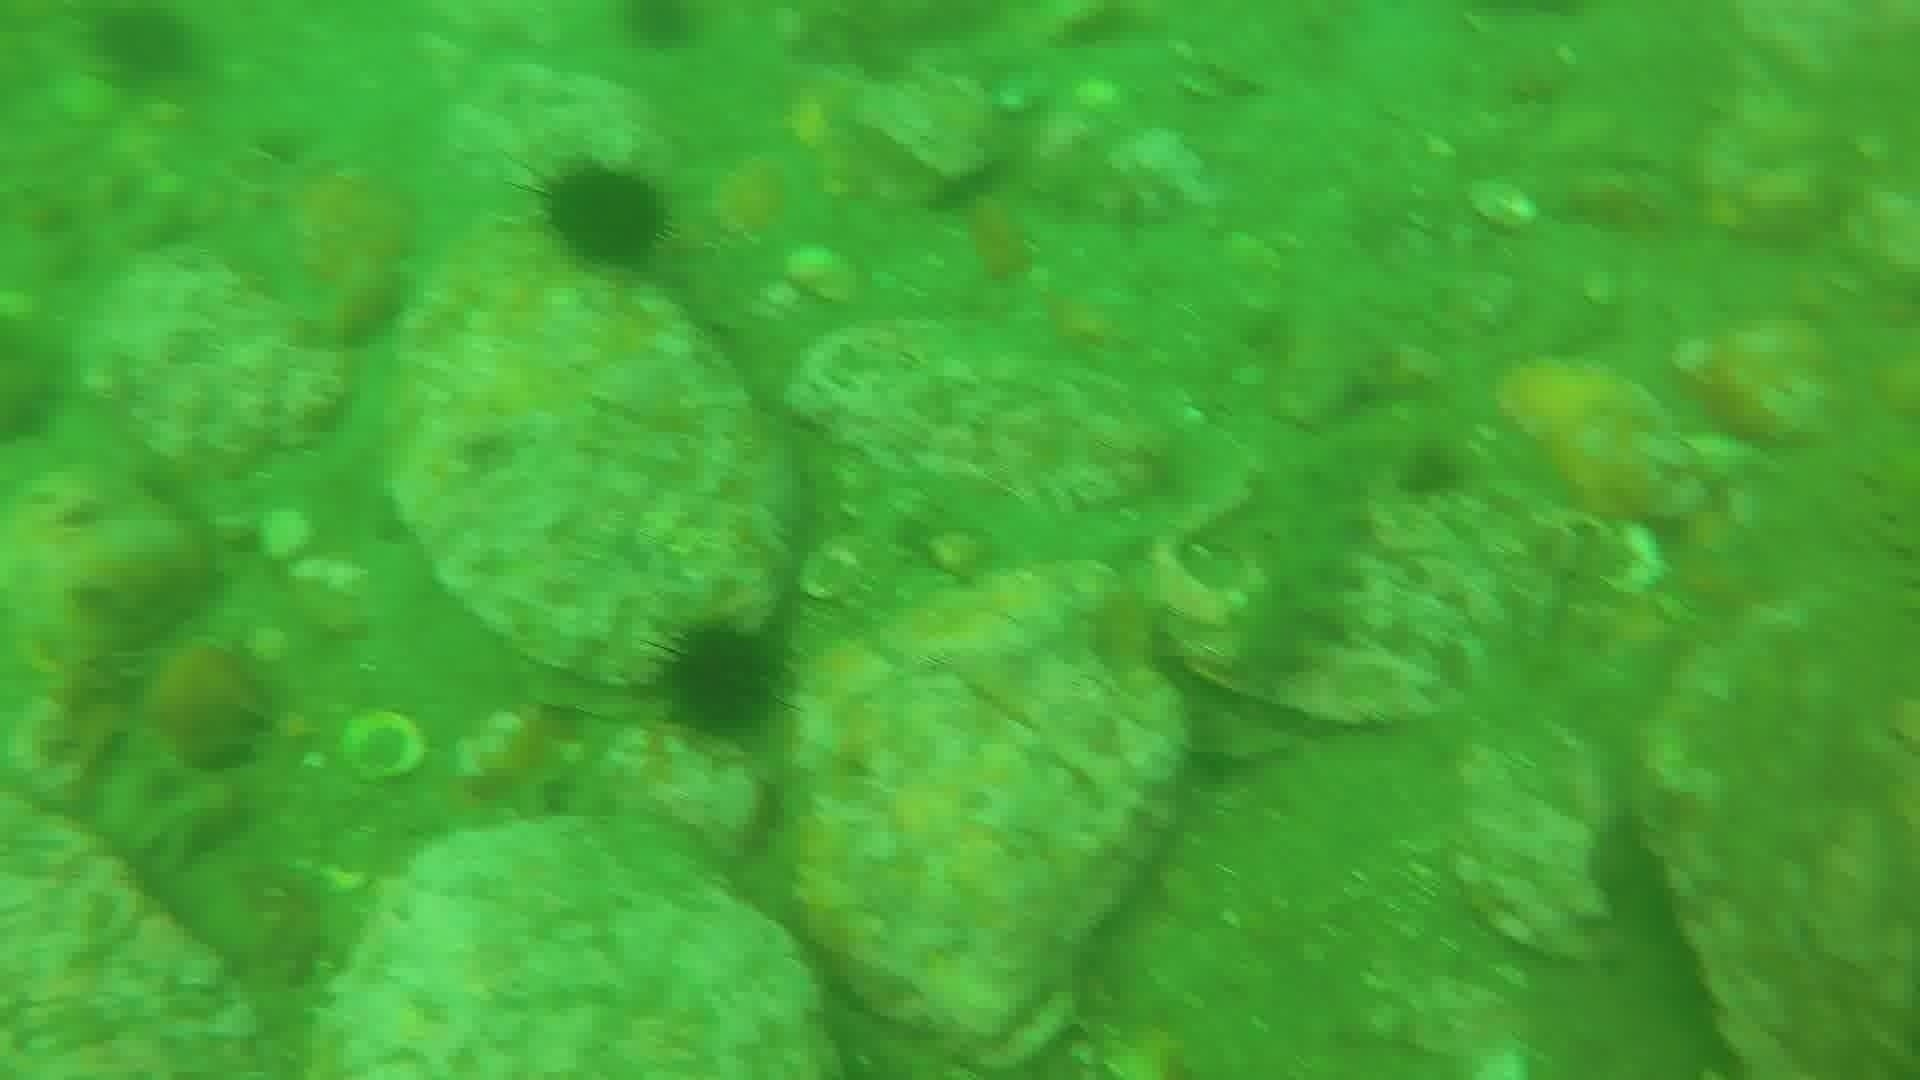echinus: (651, 615, 793, 742), (533, 158, 674, 274), (80, 5, 204, 92), (615, 1, 707, 57)
holothurian: (1218, 433, 1393, 688)
starfish: (215, 152, 425, 338)
